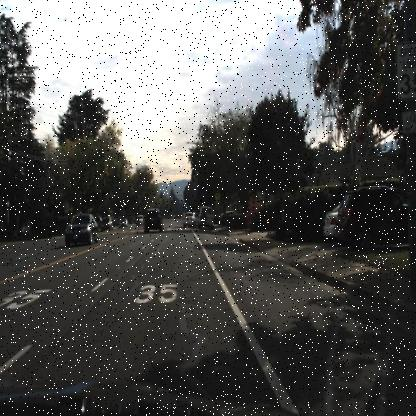car: (337, 185, 415, 255), (64, 213, 98, 246), (140, 205, 165, 237), (322, 208, 340, 240), (197, 203, 214, 228), (100, 214, 114, 233), (182, 211, 198, 227), (135, 213, 145, 228)
